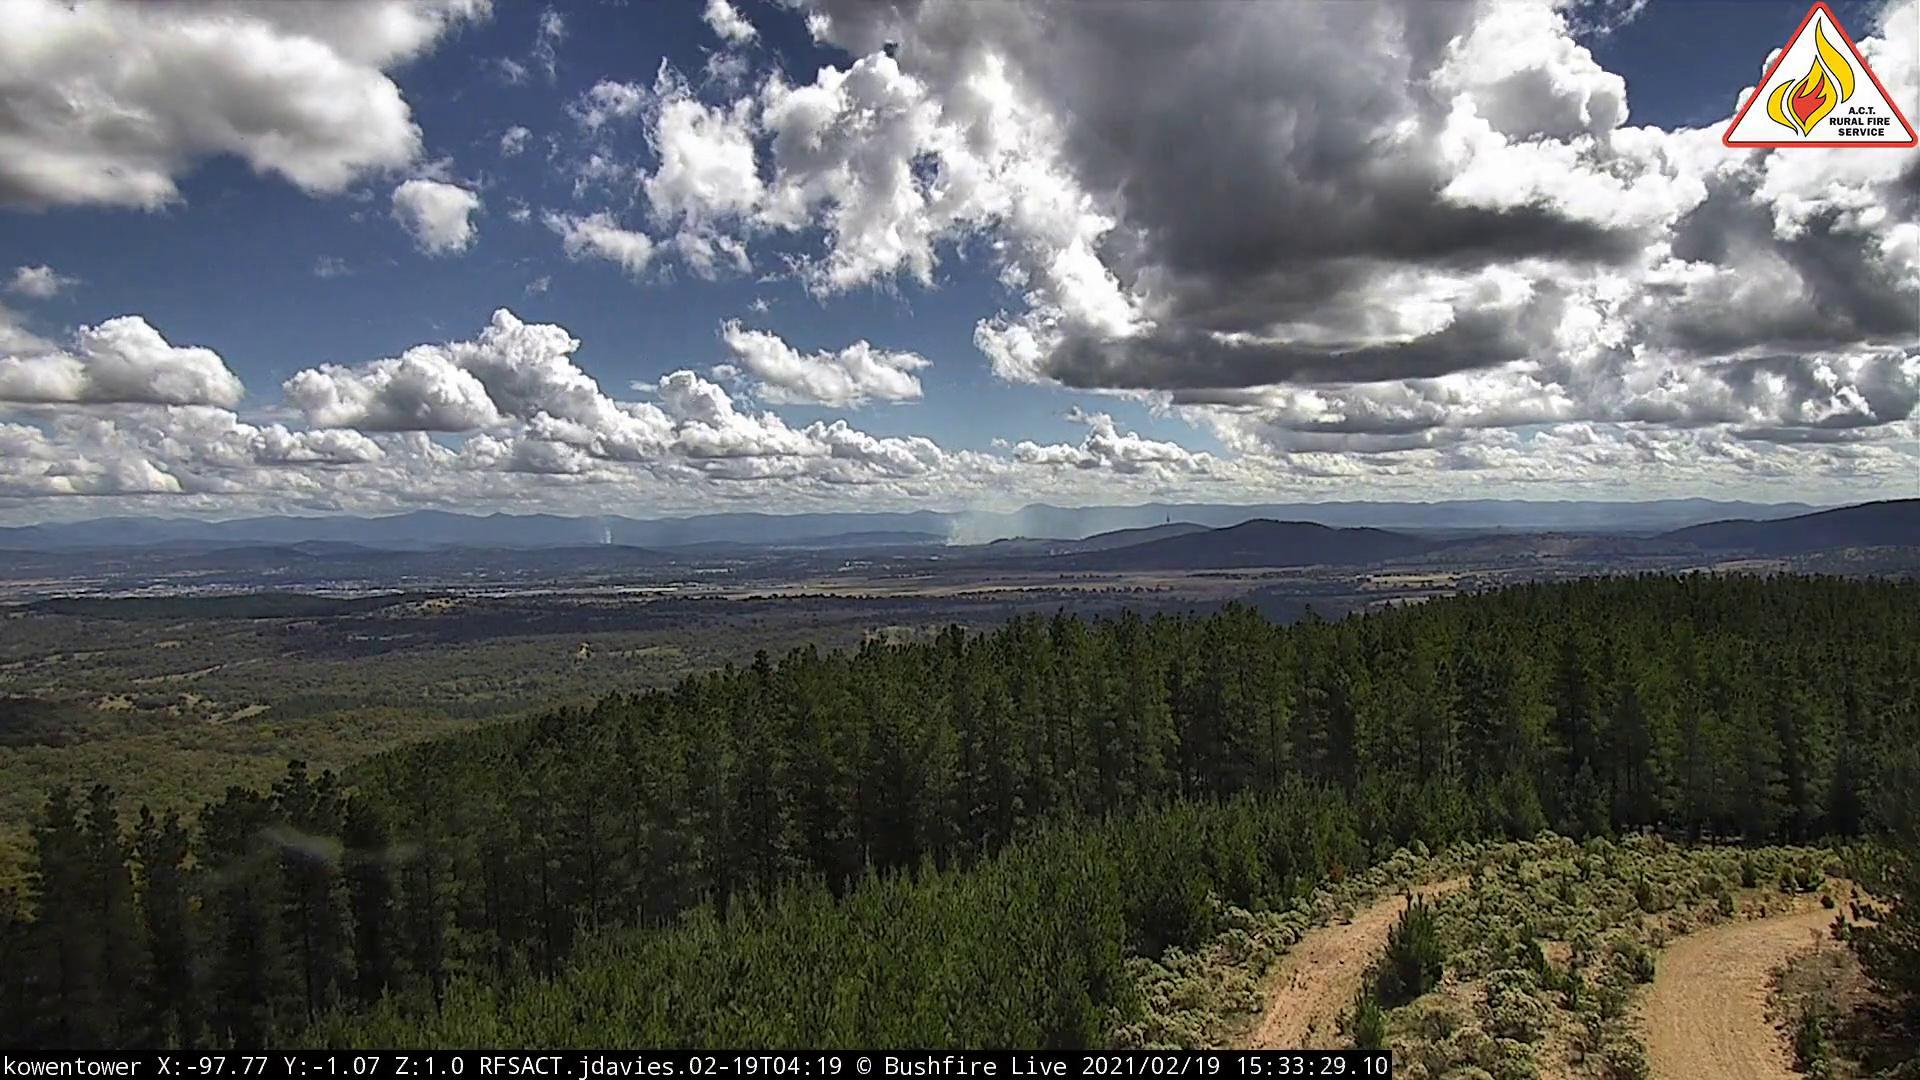Smoke: (944, 492, 1047, 551), (603, 525, 622, 553)
